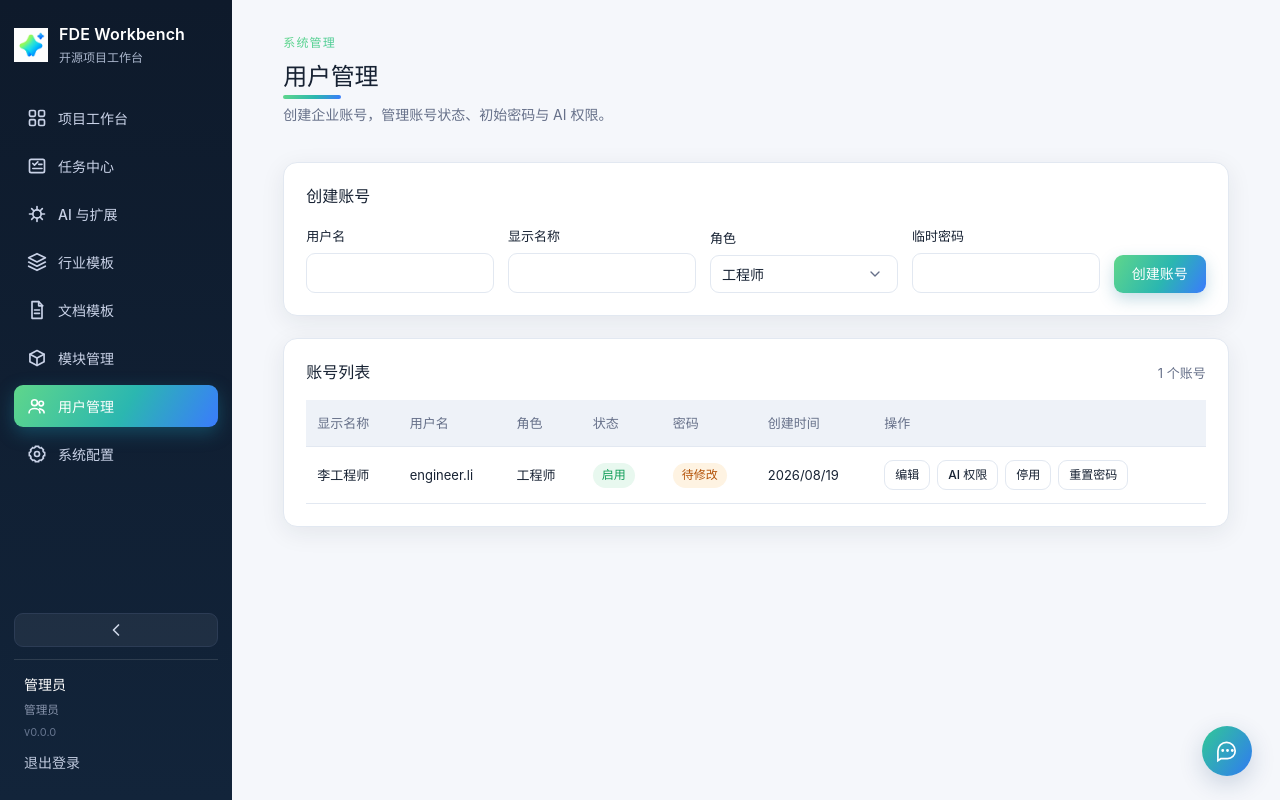
Test: administrator user management › manages AI permissions with Chinese labels
Step 1. Click the button with aria-label "管理 engineer.li 的 AI 权限" → (968, 475), box top-left (937, 460), bottom-right (998, 490)
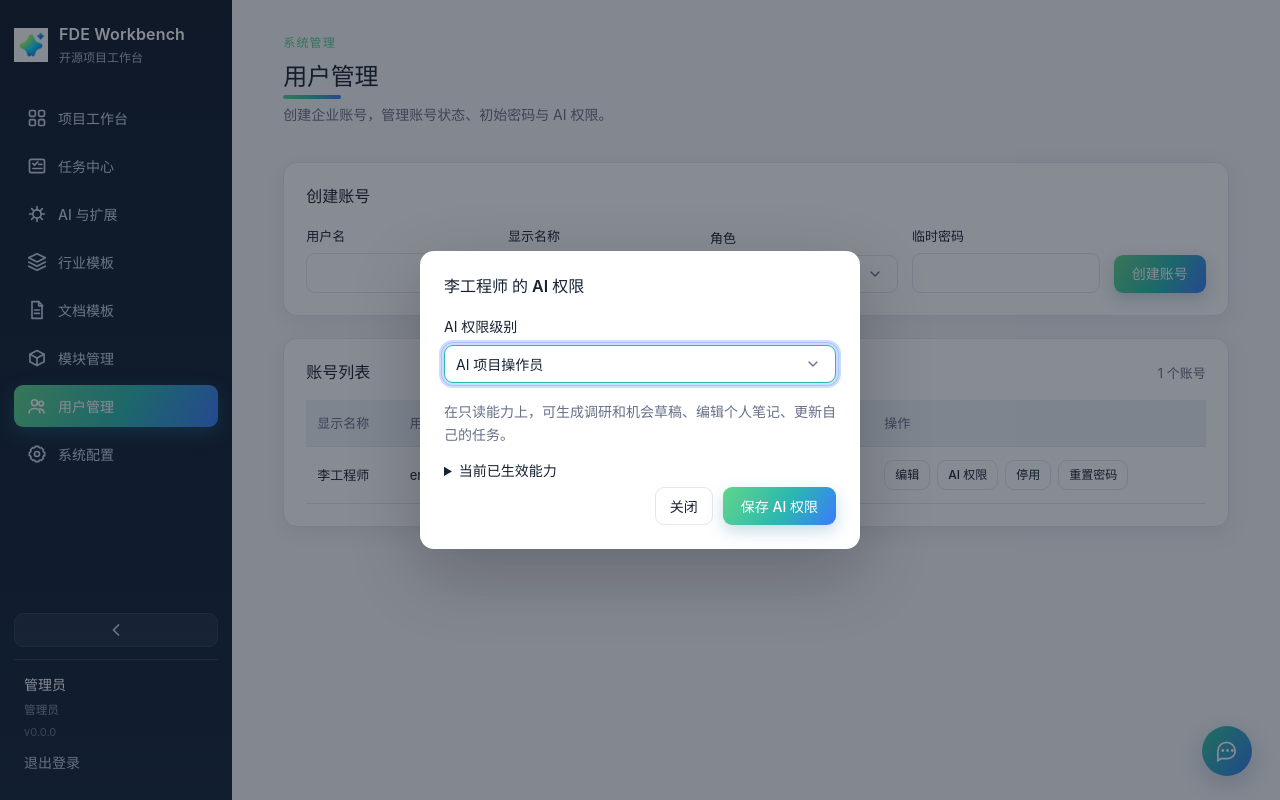
Step 2. Select "AI 只读助手" in the dropdown labelled "AI 权限级别" → (640, 364), box top-left (444, 344), bottom-right (836, 382)
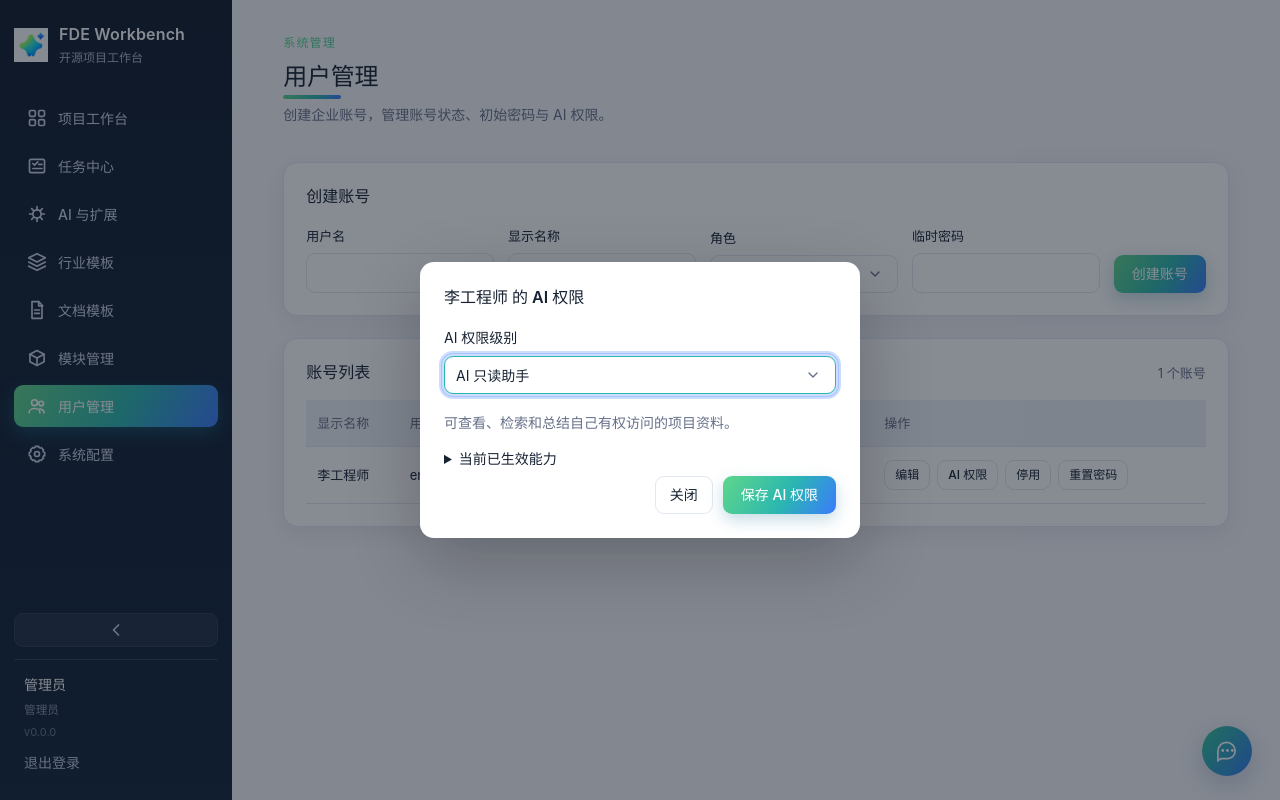
Step 3. Click the button "保存 AI 权限" → (779, 495), box top-left (723, 476), bottom-right (836, 514)
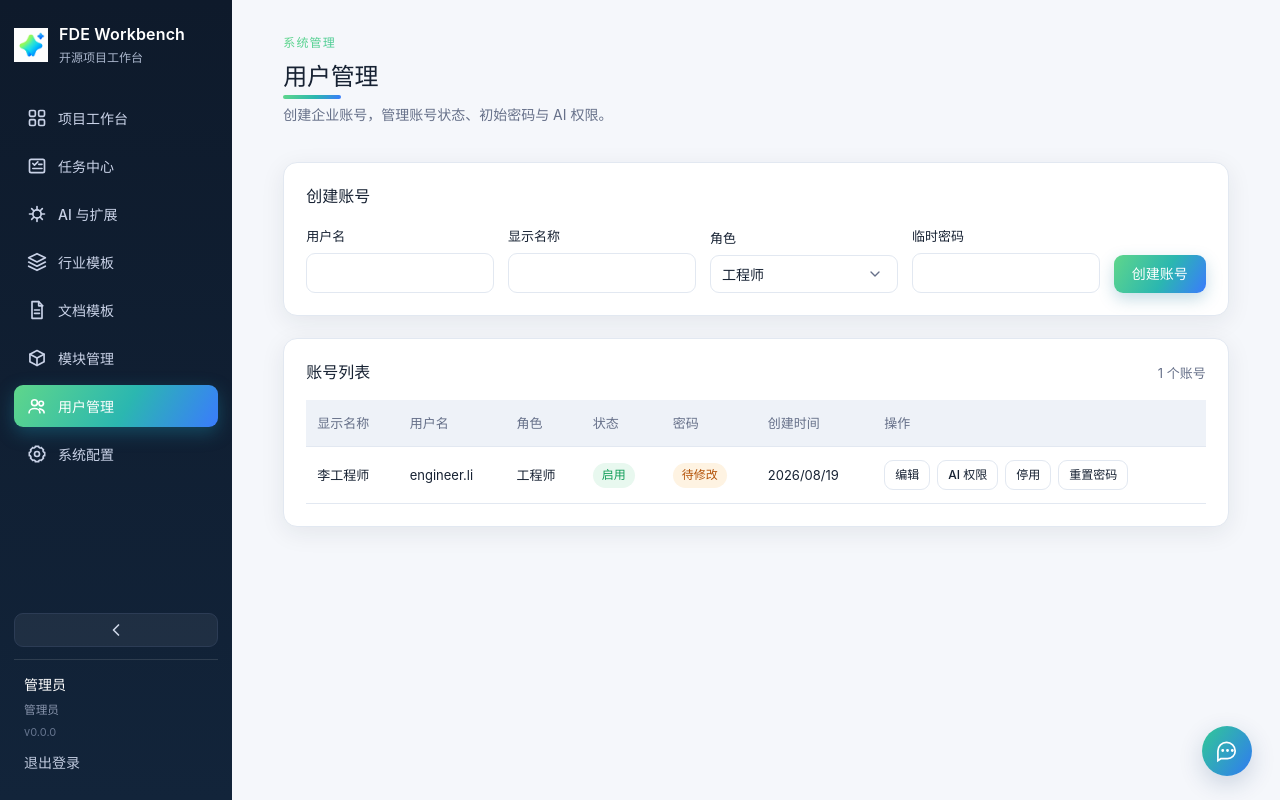
Check: the dialog is gone
